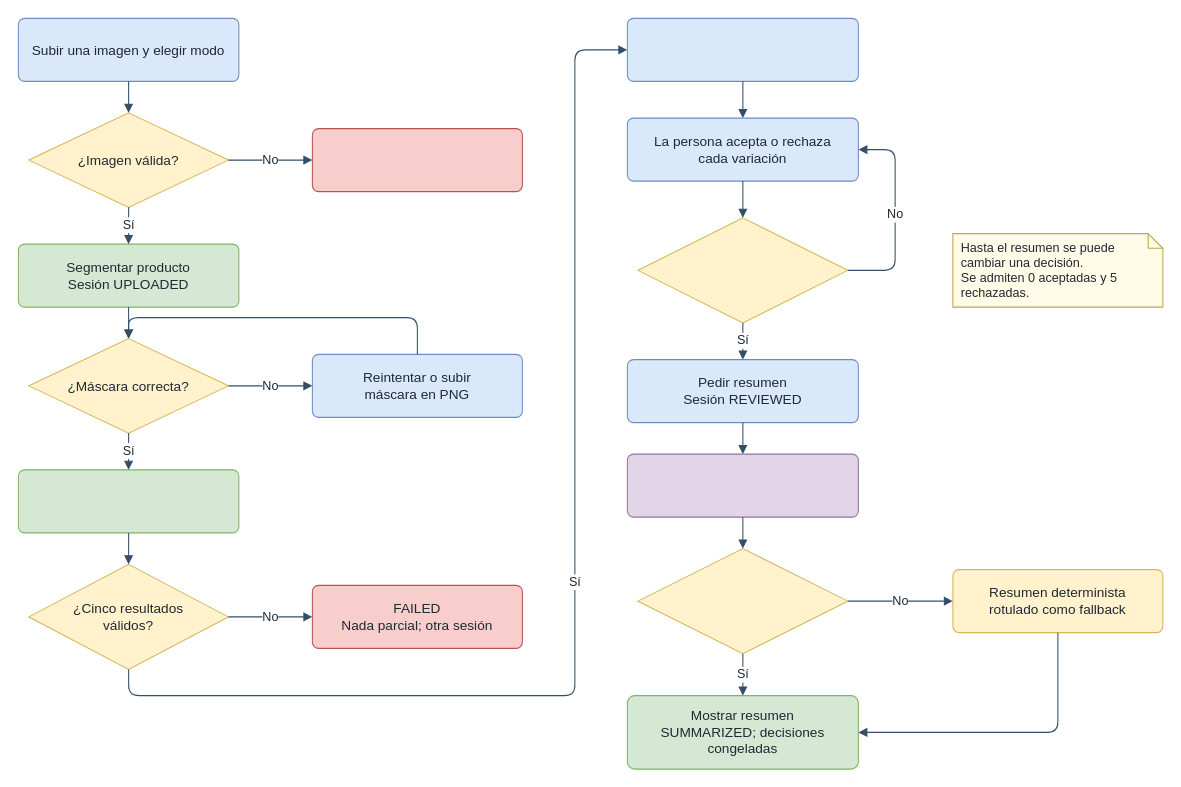
This 1181x787 diagram has some shape labels left out. The shapes that lost their labels are listed below. From the top down, each one's centre as x and y in pixels, then its label:
the point at 742,49: Mostrar cinco variaciones READY_FOR_REVIEW
the point at 416,160: Error controlado Nada queda persistido
the point at 742,270: ¿Cinco decisiones registradas?
the point at 128,501: Generar cinco estilos Sesión GENERATING
the point at 742,485: Agente LLM consulta registros y resume
the point at 742,601: ¿Estructura verificada?
